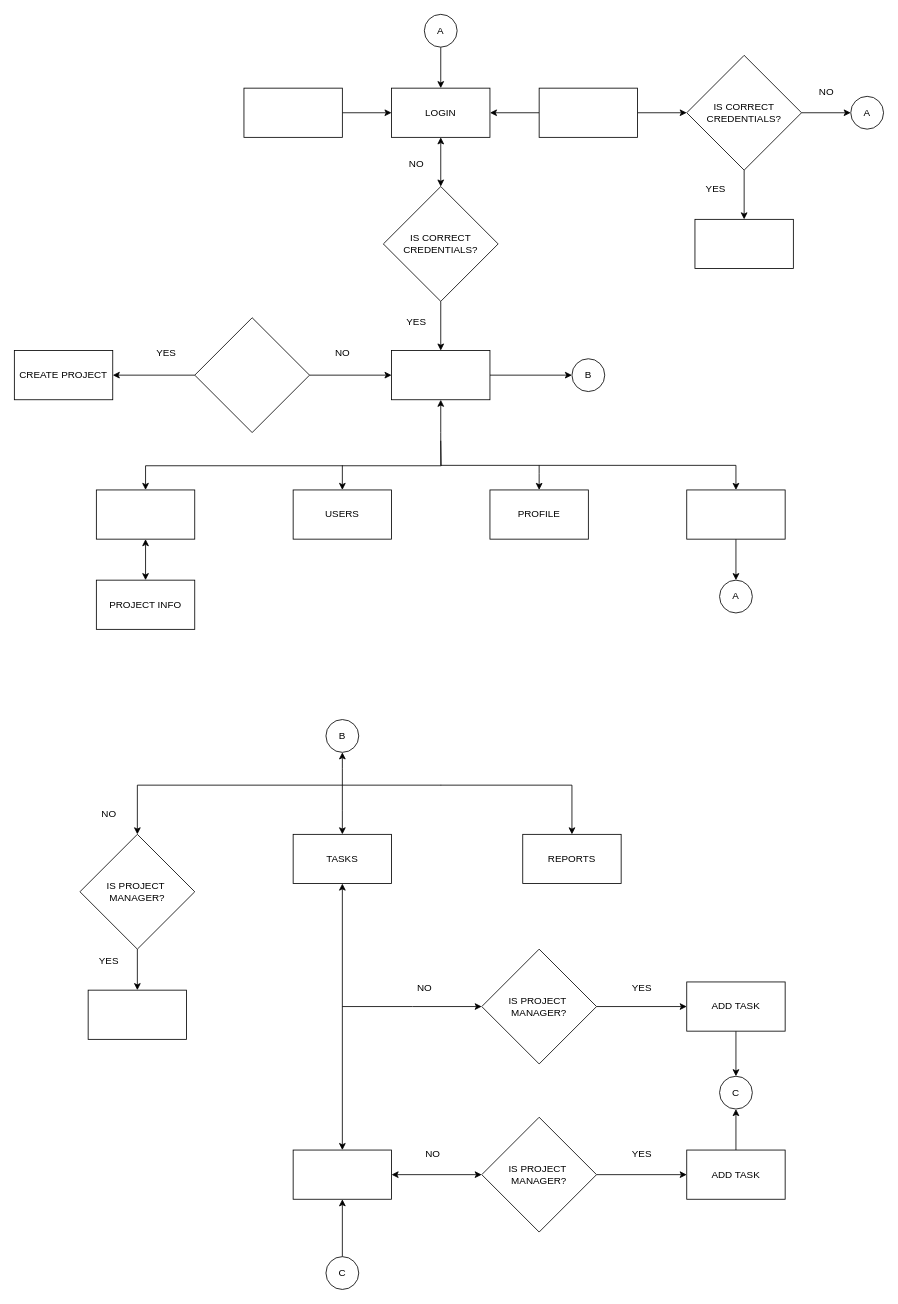
Some shapes in this 898 by 1304 pixel diagram are drawn without their labels. The centre of each missing label's shape, as x and y in pixels:
EDIT PROJECT: (x=137, y=1014)
FORGET PASSWORD: (x=292, y=112)
HOME: (x=440, y=375)
IS PROJECT MANAGER && HAS NO ACTIVE PROJECT?: (x=252, y=375)
LOGOUT: (x=735, y=514)
PROJECTS: (x=145, y=514)
REGISTER: (x=588, y=112)
TASK INFO: (x=342, y=1174)
VERIFY EMAIL: (x=743, y=244)
